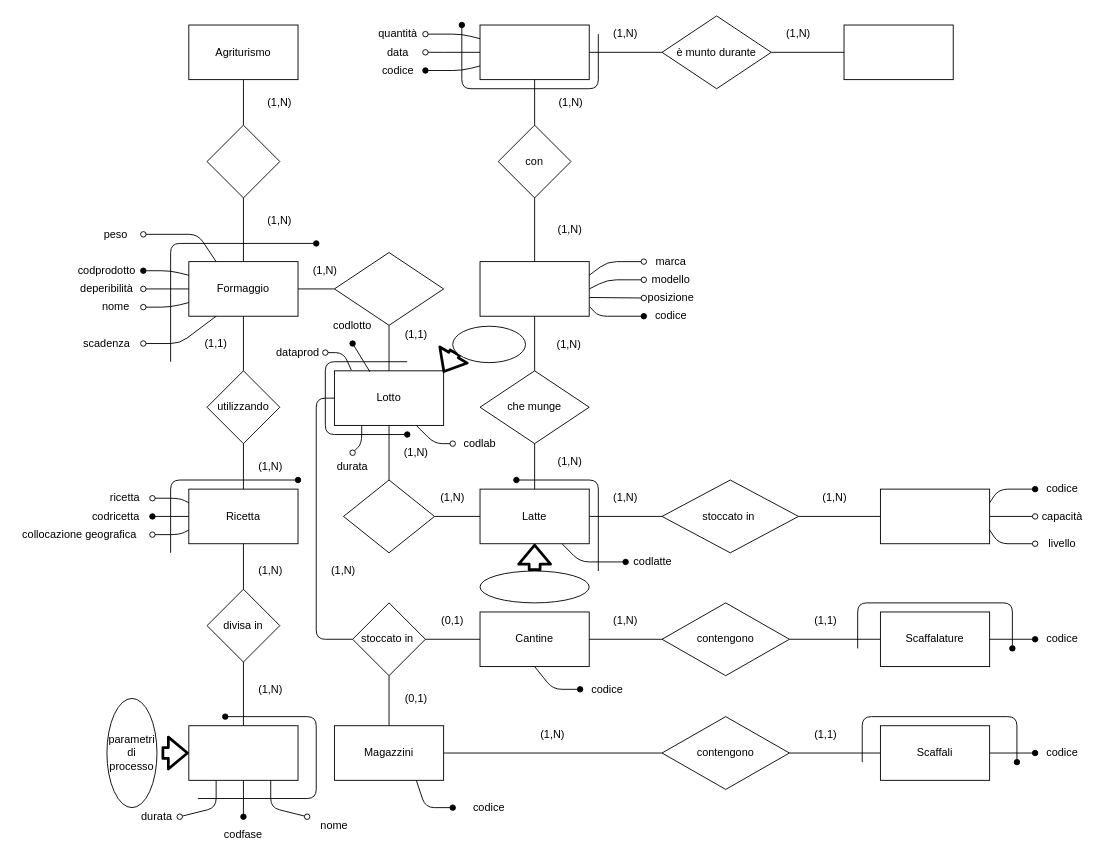
Some shapes in this 1098 by 860 pixel diagram are drawn without their labels. Here are the shapes that lost their labels. From the top down, the centre of each, then its label:
At [534,52]: "Mungitura".
At [898,52]: "Animale".
At [243,161]: "produce".
At [389,288]: "appartenente a".
At [534,288]: "Mungitrice".
At [489,344]: "codipendenti".
At [389,516]: "prodotto con".
At [935,516]: "Silos".
At [534,586]: "quantità di sostanze disciolte".
At [243,752]: "Fasi".
